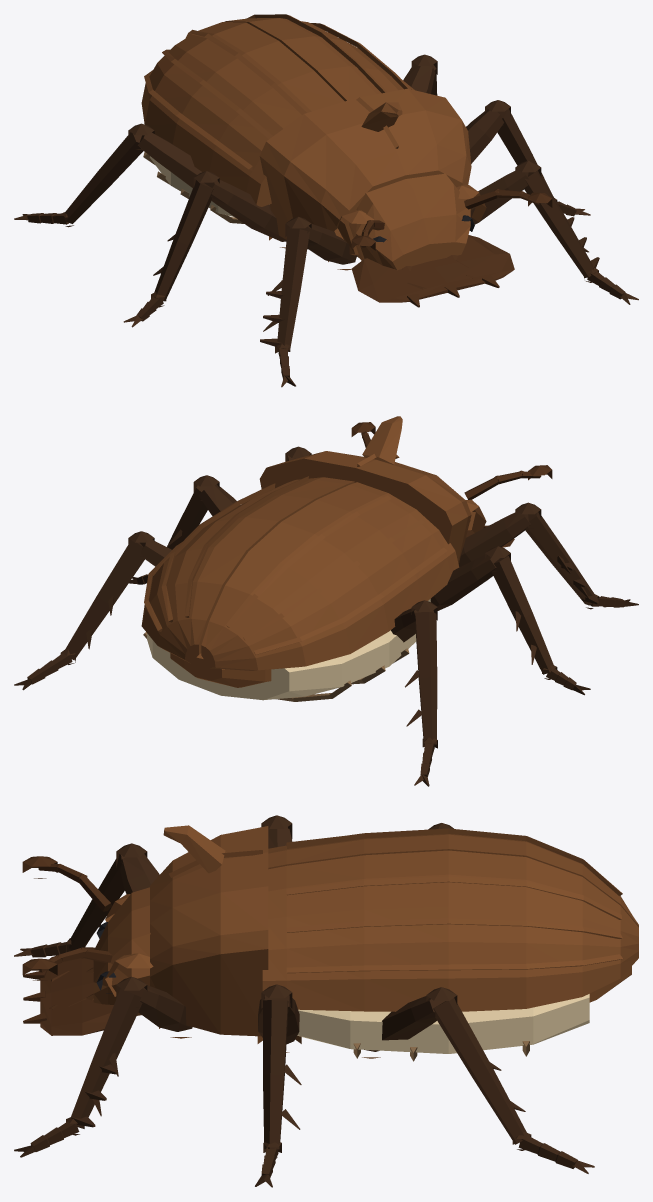
Rendered from builder_beetle.glb.
The picture shows the model from 3 angles, top to bottom: view 1: azimuth 30°, elevation 25°; view 2: azimuth 150°, elevation 25°; view 3: azimuth 270°, elevation 25°; orthographic projection. The views are drawn at different scales.
Parts seen in each view (by area): view 1: BeetlePlate_01, ThoraxCore, HeadBase001, BeetlePlate_00, shovel_plate, Tibia001, Tibia003, Tibia000, Tibia005, Femur003, Femur005, Femur001 (+5 smaller); view 2: BeetlePlate_01, BeetlePlate_00, ThoraxCore, belly_fill, Tibia005, Tibia004, Tibia003, Tibia001, Femur001, Femur003, BeetleBodyInner, Tibia002 (+4 smaller); view 3: BeetlePlate_00, ThoraxCore, belly_fill, BeetlePlate_01, shovel_plate, HeadBase001, Tibia004, Tibia002, Tibia000, Femur004, Tibia001, Femur000 (+5 smaller).
Part boxes in pixels (x1,y1,x2,y2): BeetlePlate_01: (141, 22, 344, 206); ThoraxCore: (259, 88, 471, 255); HeadBase001: (349, 173, 470, 270); BeetlePlate_00: (224, 14, 414, 101); shovel_plate: (351, 235, 514, 307); Tibia001: (260, 228, 309, 350); Tibia003: (153, 180, 213, 301); Tibia000: (524, 170, 599, 277); Tibia005: (64, 132, 143, 223); Femur003: (204, 180, 286, 241); Femur005: (137, 132, 201, 187); Femur001: (289, 224, 356, 264); BeetlePlate_01: (201, 482, 459, 670); BeetlePlate_00: (141, 476, 354, 663); ThoraxCore: (259, 416, 471, 564); belly_fill: (147, 599, 430, 700); Tibia005: (405, 612, 437, 745); Tibia004: (65, 540, 145, 660); Tibia003: (491, 555, 555, 674); Tibia001: (525, 512, 599, 605); Femur001: (459, 511, 530, 567); Femur003: (430, 555, 499, 610); BeetleBodyInner: (170, 653, 271, 687); Tibia002: (167, 485, 207, 549); BeetlePlate_00: (262, 850, 638, 1011); ThoraxCore: (150, 825, 268, 1036); belly_fill: (297, 994, 589, 1053); BeetlePlate_01: (268, 828, 638, 927); shovel_plate: (23, 947, 113, 1035); HeadBase001: (93, 887, 150, 1015); Tibia004: (433, 998, 526, 1144); Tibia002: (263, 1000, 301, 1149); Tibia000: (70, 988, 142, 1128); Femur004: (364, 996, 444, 1051); Tibia001: (69, 854, 124, 950); Femur000: (127, 985, 192, 1031).
Bounding box in the file's own units: 4.5 × 1.78 × 4.44.
